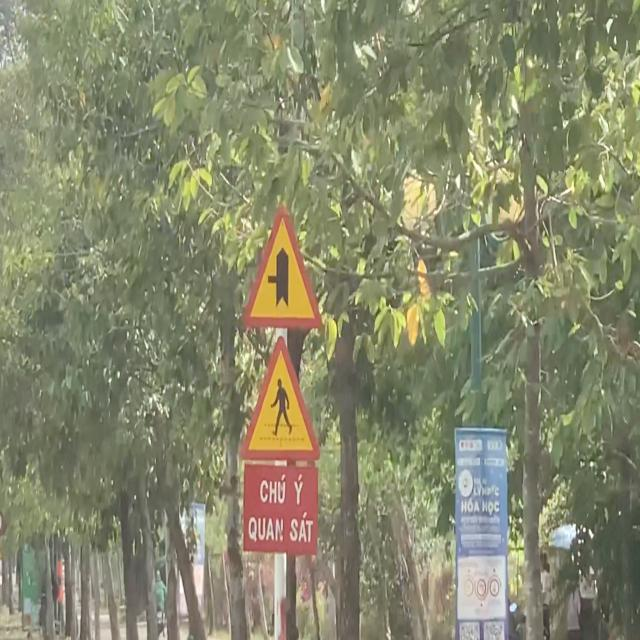Giao voi duong khong uu tien: (236, 192, 326, 336)
Nguoi di bo cat ngang: (234, 331, 324, 468)
